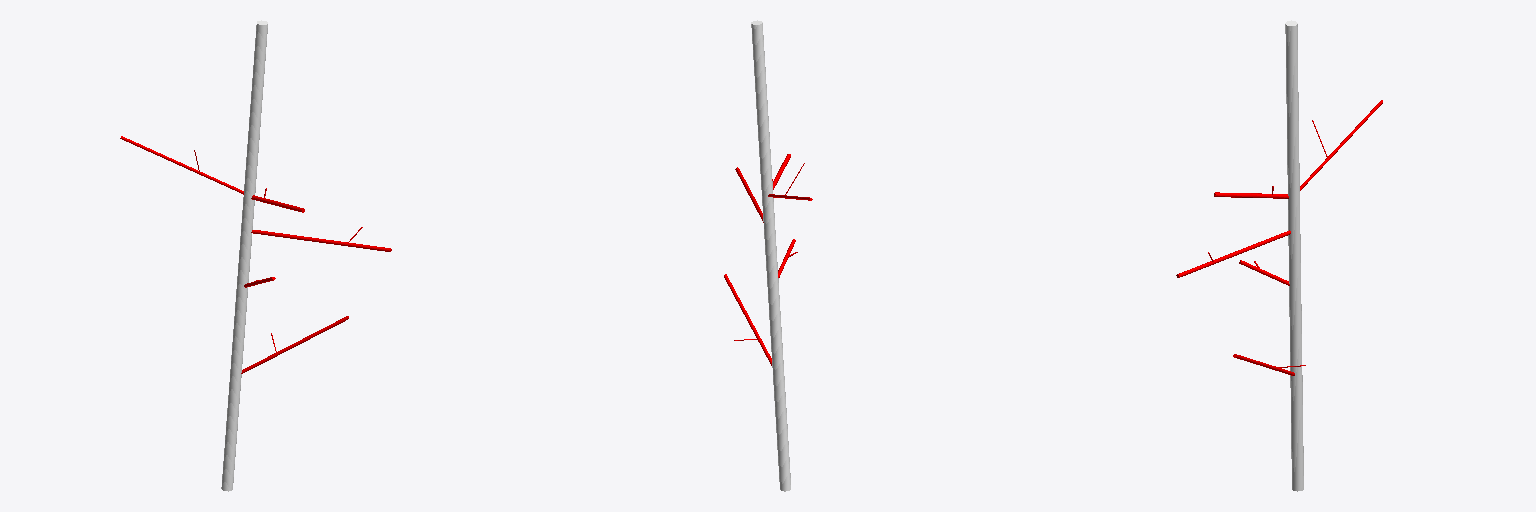
robot.urdf — tree_4.urdf:
<?xml version='1.0' encoding='UTF-8'?>
<robot name="tree_4.urdf">
  <link name="branch_0">
    <inertial>
      <origin xyz="0.0 0.0 0.0" rpy="0.0 -0.0 0.0"/>
      <mass value="0.1"/>
      <inertia ixx="0.001" ixy="0.0" ixz="0.0" iyy="0.001" iyz="0.0" izz="0.001"/>
    </inertial>
    <visual name="branch_0_visual">
      <geometry>
        <cylinder radius="0.11504960630107106" length="10.061505252939037"/>
      </geometry>
      <material name="branch_material"/>
      <origin xyz="0.3663399253988875 -0.06190201345996882 5.017014569295001" rpy="1.7104763222571856e-18 0.07391967645062283 -0.167393048207692"/>
    </visual>
    <collision name="branch_0_collision">
      <geometry>
        <cylinder radius="0.11504960630107106" length="10.061505252939037"/>
      </geometry>
      <origin xyz="0.3663399253988875 -0.06190201345996882 5.017014569295001" rpy="1.7104763222571856e-18 0.07391967645062283 -0.167393048207692"/>
    </collision>
  </link>
  <link name="branch_1">
    <inertial>
      <origin xyz="0.0 0.0 0.0" rpy="0.0 -0.0 0.0"/>
      <mass value="0.1"/>
      <inertia ixx="0.001" ixy="0.0" ixz="0.0" iyy="0.001" iyz="0.0" izz="0.001"/>
    </inertial>
    <visual name="branch_1_visual">
      <geometry>
        <cylinder radius="0.03153140230809743" length="2.782416499284975"/>
      </geometry>
      <material name="semantic_material"/>
      <origin xyz="0.0 0.0 0.0" rpy="0.0 -0.0 0.0"/>
    </visual>
    <collision name="branch_1_collision">
      <geometry>
        <cylinder radius="0.03153140230809743" length="2.782416499284975"/>
      </geometry>
      <origin xyz="0.0 0.0 0.0" rpy="0.0 -0.0 0.0"/>
    </collision>
  </link>
  <link name="branch_2">
    <inertial>
      <origin xyz="0.0 0.0 0.0" rpy="0.0 -0.0 0.0"/>
      <mass value="0.1"/>
      <inertia ixx="0.001" ixy="0.0" ixz="0.0" iyy="0.001" iyz="0.0" izz="0.001"/>
    </inertial>
    <visual name="branch_2_visual">
      <geometry>
        <cylinder radius="0.01" length="0.804225808735336"/>
      </geometry>
      <material name="semantic_material"/>
      <origin xyz="0.0 0.0 0.0" rpy="0.0 -0.0 0.0"/>
    </visual>
    <collision name="branch_2_collision">
      <geometry>
        <cylinder radius="0.01" length="0.804225808735336"/>
      </geometry>
      <origin xyz="0.0 0.0 0.0" rpy="0.0 -0.0 0.0"/>
    </collision>
  </link>
  <link name="branch_3">
    <inertial>
      <origin xyz="0.0 0.0 0.0" rpy="0.0 -0.0 0.0"/>
      <mass value="0.1"/>
      <inertia ixx="0.001" ixy="0.0" ixz="0.0" iyy="0.001" iyz="0.0" izz="0.001"/>
    </inertial>
    <visual name="branch_3_visual">
      <geometry>
        <cylinder radius="0.036315713012329935" length="2.5713072856015744"/>
      </geometry>
      <material name="semantic_material"/>
      <origin xyz="0.0 0.0 0.0" rpy="0.0 -0.0 0.0"/>
    </visual>
    <collision name="branch_3_collision">
      <geometry>
        <cylinder radius="0.036315713012329935" length="2.5713072856015744"/>
      </geometry>
      <origin xyz="0.0 0.0 0.0" rpy="0.0 -0.0 0.0"/>
    </collision>
  </link>
  <link name="branch_4">
    <inertial>
      <origin xyz="0.0 0.0 0.0" rpy="0.0 -0.0 0.0"/>
      <mass value="0.1"/>
      <inertia ixx="0.001" ixy="0.0" ixz="0.0" iyy="0.001" iyz="0.0" izz="0.001"/>
    </inertial>
    <visual name="branch_4_visual">
      <geometry>
        <cylinder radius="0.01" length="0.6571541037574459"/>
      </geometry>
      <material name="semantic_material"/>
      <origin xyz="0.0 0.0 0.0" rpy="0.0 -0.0 0.0"/>
    </visual>
    <collision name="branch_4_collision">
      <geometry>
        <cylinder radius="0.01" length="0.6571541037574459"/>
      </geometry>
      <origin xyz="0.0 0.0 0.0" rpy="0.0 -0.0 0.0"/>
    </collision>
  </link>
  <link name="branch_5">
    <inertial>
      <origin xyz="0.0 0.0 0.0" rpy="0.0 -0.0 0.0"/>
      <mass value="0.1"/>
      <inertia ixx="0.001" ixy="0.0" ixz="0.0" iyy="0.001" iyz="0.0" izz="0.001"/>
    </inertial>
    <visual name="branch_5_visual">
      <geometry>
        <cylinder radius="0.039137989690985184" length="2.9858148933866056"/>
      </geometry>
      <material name="semantic_material"/>
      <origin xyz="0.0 0.0 0.0" rpy="0.0 -0.0 0.0"/>
    </visual>
    <collision name="branch_5_collision">
      <geometry>
        <cylinder radius="0.039137989690985184" length="2.9858148933866056"/>
      </geometry>
      <origin xyz="0.0 0.0 0.0" rpy="0.0 -0.0 0.0"/>
    </collision>
  </link>
  <link name="branch_6">
    <inertial>
      <origin xyz="0.0 0.0 0.0" rpy="0.0 -0.0 0.0"/>
      <mass value="0.1"/>
      <inertia ixx="0.001" ixy="0.0" ixz="0.0" iyy="0.001" iyz="0.0" izz="0.001"/>
    </inertial>
    <visual name="branch_6_visual">
      <geometry>
        <cylinder radius="0.012149959896282309" length="0.4589680745201922"/>
      </geometry>
      <material name="semantic_material"/>
      <origin xyz="0.0 0.0 0.0" rpy="0.0 -0.0 0.0"/>
    </visual>
    <collision name="branch_6_collision">
      <geometry>
        <cylinder radius="0.012149959896282309" length="0.4589680745201922"/>
      </geometry>
      <origin xyz="0.0 0.0 0.0" rpy="0.0 -0.0 0.0"/>
    </collision>
  </link>
  <link name="branch_7">
    <inertial>
      <origin xyz="0.0 0.0 0.0" rpy="0.0 -0.0 0.0"/>
      <mass value="0.1"/>
      <inertia ixx="0.001" ixy="0.0" ixz="0.0" iyy="0.001" iyz="0.0" izz="0.001"/>
    </inertial>
    <visual name="branch_7_visual">
      <geometry>
        <cylinder radius="0.03854371106430034" length="1.188100642268345"/>
      </geometry>
      <material name="semantic_material"/>
      <origin xyz="0.0 0.0 0.0" rpy="0.0 -0.0 0.0"/>
    </visual>
    <collision name="branch_7_collision">
      <geometry>
        <cylinder radius="0.03854371106430034" length="1.188100642268345"/>
      </geometry>
      <origin xyz="0.0 0.0 0.0" rpy="0.0 -0.0 0.0"/>
    </collision>
  </link>
  <link name="branch_8">
    <inertial>
      <origin xyz="0.0 0.0 0.0" rpy="0.0 -0.0 0.0"/>
      <mass value="0.1"/>
      <inertia ixx="0.001" ixy="0.0" ixz="0.0" iyy="0.001" iyz="0.0" izz="0.001"/>
    </inertial>
    <visual name="branch_8_visual">
      <geometry>
        <cylinder radius="0.014771748839507323" length="0.25977930429604074"/>
      </geometry>
      <material name="semantic_material"/>
      <origin xyz="0.0 0.0 0.0" rpy="0.0 -0.0 0.0"/>
    </visual>
    <collision name="branch_8_collision">
      <geometry>
        <cylinder radius="0.014771748839507323" length="0.25977930429604074"/>
      </geometry>
      <origin xyz="0.0 0.0 0.0" rpy="0.0 -0.0 0.0"/>
    </collision>
  </link>
  <link name="branch_9">
    <inertial>
      <origin xyz="0.0 0.0 0.0" rpy="0.0 -0.0 0.0"/>
      <mass value="0.1"/>
      <inertia ixx="0.001" ixy="0.0" ixz="0.0" iyy="0.001" iyz="0.0" izz="0.001"/>
    </inertial>
    <visual name="branch_9_visual">
      <geometry>
        <cylinder radius="0.04496918148087998" length="1.5513274945909825"/>
      </geometry>
      <material name="semantic_material"/>
      <origin xyz="0.0 0.0 0.0" rpy="0.0 -0.0 0.0"/>
    </visual>
    <collision name="branch_9_collision">
      <geometry>
        <cylinder radius="0.04496918148087998" length="1.5513274945909825"/>
      </geometry>
      <origin xyz="0.0 0.0 0.0" rpy="0.0 -0.0 0.0"/>
    </collision>
  </link>
  <link name="branch_10">
    <inertial>
      <origin xyz="0.0 0.0 0.0" rpy="0.0 -0.0 0.0"/>
      <mass value="0.1"/>
      <inertia ixx="0.001" ixy="0.0" ixz="0.0" iyy="0.001" iyz="0.0" izz="0.001"/>
    </inertial>
    <visual name="branch_10_visual">
      <geometry>
        <cylinder radius="0.013466881512037693" length="0.2440607527675365"/>
      </geometry>
      <material name="semantic_material"/>
      <origin xyz="0.0 0.0 0.0" rpy="0.0 -0.0 0.0"/>
    </visual>
    <collision name="branch_10_collision">
      <geometry>
        <cylinder radius="0.013466881512037693" length="0.2440607527675365"/>
      </geometry>
      <origin xyz="0.0 0.0 0.0" rpy="0.0 -0.0 0.0"/>
    </collision>
  </link>
  <joint name="joint_0_1" type="fixed">
    <parent link="branch_0"/>
    <child link="branch_1"/>
    <axis xyz="1. 0. 0."/>
    <origin xyz="-0.5199518615616517 0.7569304635723337 6.844474259231416" rpy="0.09762600047583268 1.1822146895056074 2.542122244588129"/>
  </joint>
  <joint name="joint_0_3" type="fixed">
    <parent link="branch_0"/>
    <child link="branch_3"/>
    <axis xyz="1. 0. 0."/>
    <origin xyz="1.1292509597843217 -0.6089785008791071 3.0922694296654605" rpy="-0.05696808322475455 1.045338899158794 -0.6127878152472175"/>
  </joint>
  <joint name="joint_0_5" type="fixed">
    <parent link="branch_0"/>
    <child link="branch_5"/>
    <axis xyz="1. 0. 0."/>
    <origin xyz="1.4144945812153595 -1.1696478998989688 5.557893433234678" rpy="-1.6564361047008886 1.5251521183270476 -2.485698017691386"/>
  </joint>
  <joint name="joint_0_7" type="fixed">
    <parent link="branch_0"/>
    <child link="branch_7"/>
    <axis xyz="1. 0. 0."/>
    <origin xyz="0.37659999994317483 -0.5716735752698996 4.642702893667632" rpy="-0.14840693876800817 1.0642227052492474 -1.6278378207144613"/>
  </joint>
  <joint name="joint_0_9" type="fixed">
    <parent link="branch_0"/>
    <child link="branch_9"/>
    <axis xyz="1. 0. 0."/>
    <origin xyz="0.6431017617355039 -0.8240678853406517 6.402910537208741" rpy="-0.4660168627753047 1.4186857792268464 -1.8007528331846339"/>
  </joint>
  <joint name="joint_1_2" type="fixed">
    <parent link="branch_0"/>
    <child link="branch_2"/>
    <axis xyz="1. 0. 0."/>
    <origin xyz="-0.44282917464630955 0.41913290163333067 7.070063459342951" rpy="0.5378875474157124 0.07848310609492984 -0.902452330226609"/>
  </joint>
  <joint name="joint_3_4" type="fixed">
    <parent link="branch_0"/>
    <child link="branch_4"/>
    <axis xyz="1. 0. 0."/>
    <origin xyz="0.981451330603445 -0.15196033550152235 2.994653481577281" rpy="1.2886696507842084 0.5348840956886238 2.634561765427989"/>
  </joint>
  <joint name="joint_5_6" type="fixed">
    <parent link="branch_0"/>
    <child link="branch_6"/>
    <axis xyz="1. 0. 0."/>
    <origin xyz="1.9547718537201952 -1.6425837505938847 5.726270078116014" rpy="0.5134157345342741 -0.547779721137546 2.02842343658747"/>
  </joint>
  <joint name="joint_7_8" type="fixed">
    <parent link="branch_0"/>
    <child link="branch_8"/>
    <axis xyz="1. 0. 0."/>
    <origin xyz="0.2970874522134028 -0.7594372236787847 4.773131676911032" rpy="-1.0497184391045904 0.2407546081793745 2.314116514144166"/>
  </joint>
  <joint name="joint_9_10" type="fixed">
    <parent link="branch_0"/>
    <child link="branch_10"/>
    <axis xyz="1. 0. 0."/>
    <origin xyz="0.589767252686065 -0.4760660130005909 6.473025754791166" rpy="0.25808669168172194 0.011581855270471664 1.7785214561474794"/>
  </joint>
  <material name="branch_material">
    <color rgba="1. 1. 1. 1."/>
  </material>
  <material name="semantic_material">
    <color rgba="1. 0. 0. 1."/>
  </material>
</robot>

--- Facts derived from the render (not from the file) ---
The picture shows the robot from 3 angles, left to right: view 1: azimuth 30°, elevation 25°; view 2: azimuth 150°, elevation 25°; view 3: azimuth 270°, elevation 25°; orthographic projection.
Robot: tree_4.urdf — 11 links, 10 joints (10 fixed); root link branch_0; default pose: every joint at zero.
Visible links, largest first — view 1: branch_0, branch_5; view 2: branch_0; view 3: branch_0.
Boxes of the visible links, x1=… form: branch_0: x1=221, y1=20, x2=267, y2=491; branch_5: x1=251, y1=230, x2=391, y2=251; branch_0: x1=751, y1=20, x2=790, y2=491; branch_0: x1=1285, y1=20, x2=1303, y2=491.
Size in the robot's own frame: 3.98 by 3.91 by 10.05 metres.
Geometry: primitives only (box / cylinder / sphere), no mesh files.
